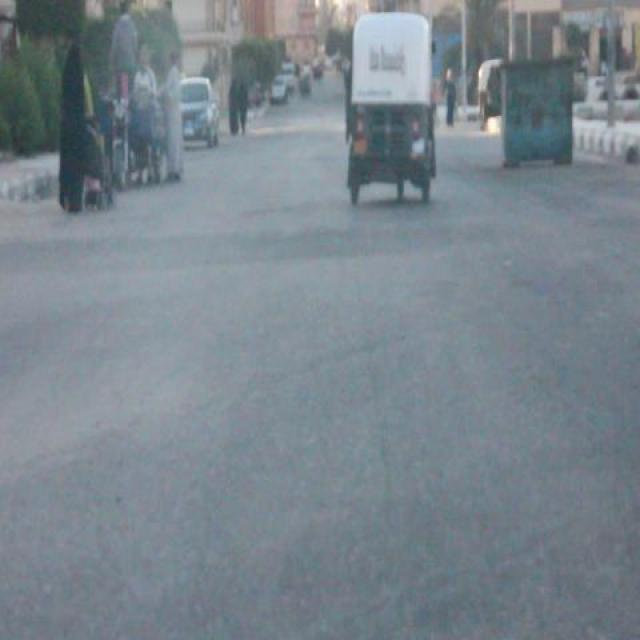Unmarked Bump: (0, 205, 503, 278)
